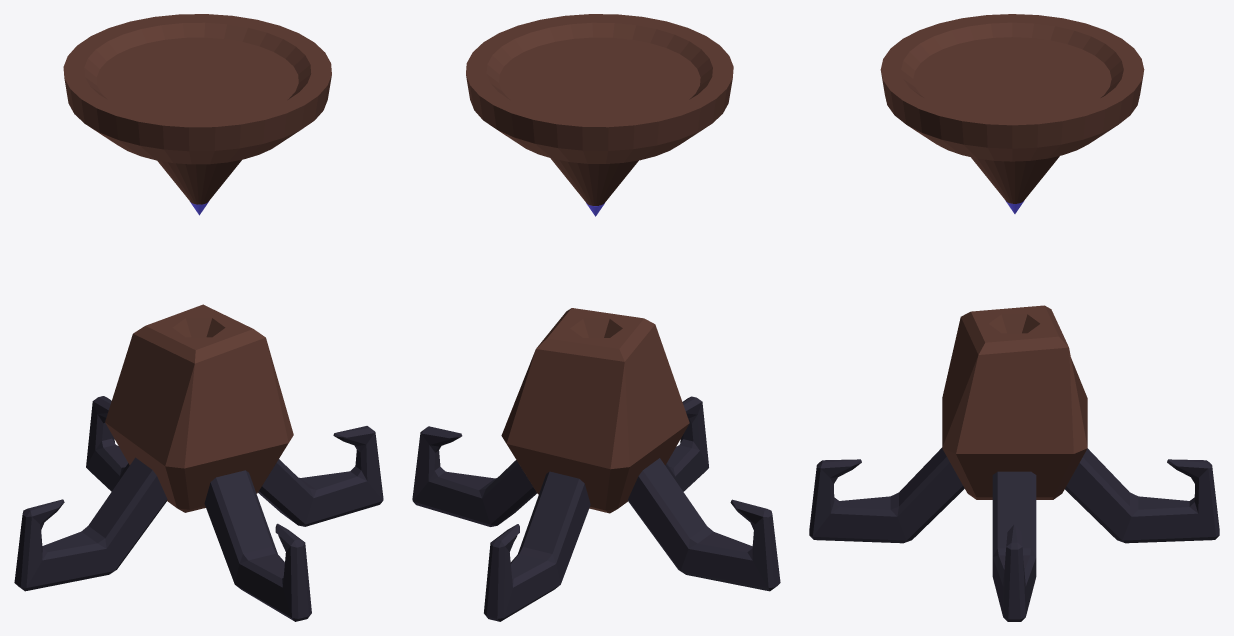
The model's file is Pillar.fbx.
3 renders of one model, left to right at view 1: azimuth 30°, elevation 25°; view 2: azimuth 150°, elevation 25°; view 3: azimuth 270°, elevation 25°, orthographic. The views are drawn at different scales.
Visible parts, largest first — view 1: Cylinder.010, Cube.002, Cube.001, Cone.003; view 2: Cylinder.010, Cube.002, Cube.001, Cone.003; view 3: Cylinder.010, Cube.002, Cube.001, Cone.003.
Boxes of the visible parts, left/top/right/bottom form: Cylinder.010: left=63, top=14, right=331, bottom=164; Cube.002: left=14, top=396, right=383, bottom=621; Cube.001: left=105, top=304, right=293, bottom=512; Cone.003: left=157, top=160, right=241, bottom=204; Cylinder.010: left=466, top=14, right=733, bottom=163; Cube.002: left=412, top=396, right=780, bottom=621; Cube.001: left=501, top=308, right=689, bottom=513; Cone.003: left=550, top=158, right=638, bottom=205; Cylinder.010: left=880, top=14, right=1144, bottom=161; Cube.002: left=809, top=447, right=1219, bottom=621; Cube.001: left=942, top=305, right=1087, bottom=499; Cone.003: left=971, top=156, right=1059, bottom=203.
Bounding box in the file's own units: 104 × 130 × 104.
